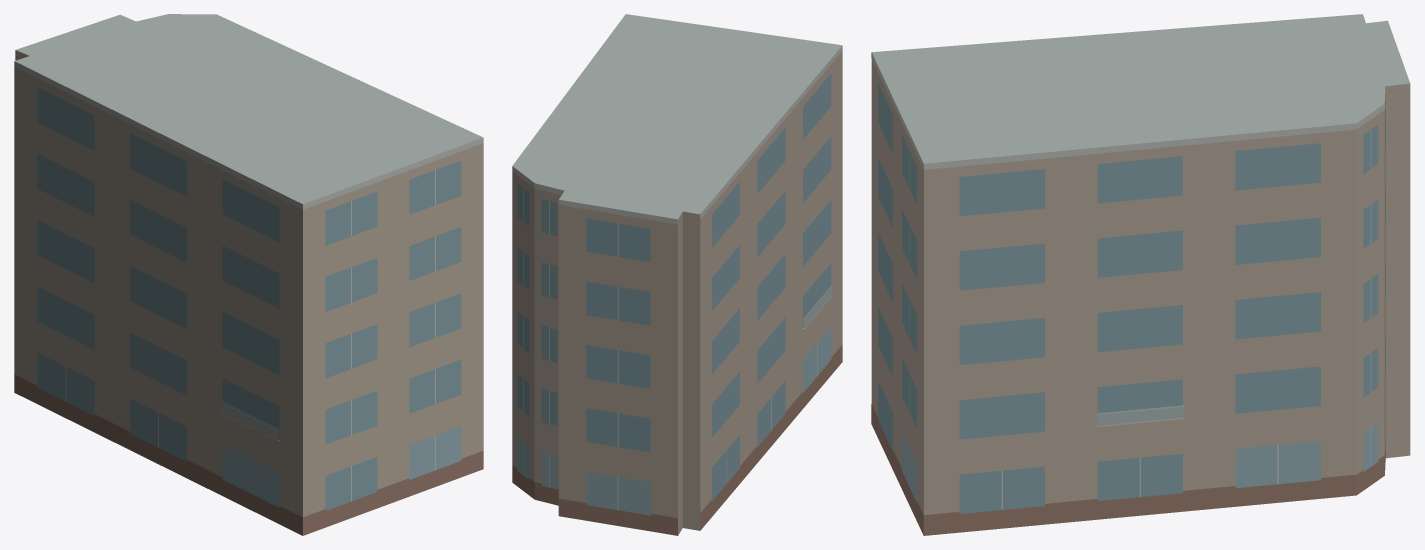
The model's file is survey-upis-32630691.glb.
3 views of the same model, side by side, from view 1: azimuth 30°, elevation 25°; view 2: azimuth 150°, elevation 25°; view 3: azimuth 270°, elevation 25° (orthographic). The views are drawn at different scales.
Parts seen in each view (by area): view 1: survey-upis-32630691.tmp; view 2: survey-upis-32630691.tmp; view 3: survey-upis-32630691.tmp.
Part boxes in pixels (left/top/right/bottom): survey-upis-32630691.tmp: left=14, top=14, right=483, bottom=535; survey-upis-32630691.tmp: left=512, top=14, right=842, bottom=535; survey-upis-32630691.tmp: left=871, top=14, right=1410, bottom=535.
Size of the model in its own units: 12.75 by 14.75 by 19.37.
